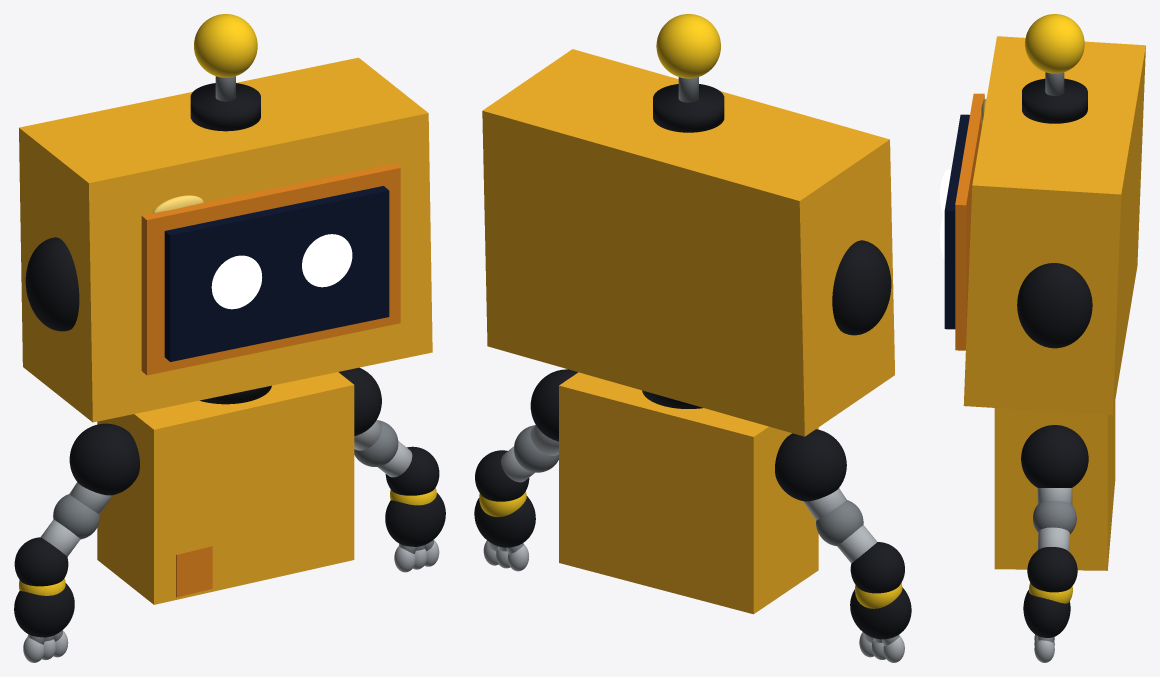
The model's file is test robot.glb.
3 views of the same model, side by side, from view 1: azimuth 30°, elevation 25°; view 2: azimuth 150°, elevation 25°; view 3: azimuth 270°, elevation 25° (orthographic). The views are drawn at different scales.
Parts seen in each view (by area): view 1: Robot Head, Robot Body, Face Screen, Screen Orange Frame, Left Shoulder, Left Ear, Antenna Ball, Antenna Base, LEFT Claw Hub, RIGHT Claw Hub, Left Glowing Eye, Right Glowing Eye (+10 smaller); view 2: Robot Head, Robot Body, Left Ear, Left Shoulder, Antenna Ball, Antenna Base, Left Wrist, RIGHT Claw Hub, LEFT Claw Hub, Right Shoulder, Right Wrist, Left Elbow (+5 smaller); view 3: Robot Head, Robot Body, Right Ear, Screen Orange Frame, Right Shoulder, Antenna Ball, Face Screen, Antenna Base, Right Wrist, RIGHT Claw Hub, Right Elbow, Right Forearm (+5 smaller).
Boxes of the visible parts, <box> form: Robot Head: <box>19,57,432,422</box>; Robot Body: <box>97,372,354,604</box>; Face Screen: <box>164,186,389,361</box>; Screen Orange Frame: <box>141,163,400,375</box>; Left Shoulder: <box>69,423,139,495</box>; Left Ear: <box>25,237,79,331</box>; Antenna Ball: <box>194,14,257,77</box>; Antenna Base: <box>190,83,260,131</box>; LEFT Claw Hub: <box>14,583,74,637</box>; RIGHT Claw Hub: <box>385,493,445,546</box>; Left Glowing Eye: <box>211,255,262,309</box>; Right Glowing Eye: <box>302,234,352,287</box>; Robot Head: <box>482,49,894,436</box>; Robot Body: <box>559,372,818,614</box>; Left Ear: <box>832,240,891,335</box>; Left Shoulder: <box>775,429,846,501</box>; Antenna Ball: <box>656,14,720,78</box>; Antenna Base: <box>653,84,724,132</box>; Left Wrist: <box>850,542,904,593</box>; RIGHT Claw Hub: <box>474,496,535,547</box>; LEFT Claw Hub: <box>850,587,911,639</box>; Right Shoulder: <box>530,369,577,441</box>; Right Wrist: <box>475,450,529,501</box>; Left Elbow: <box>816,500,863,546</box>; Robot Head: <box>963,36,1145,415</box>; Robot Body: <box>994,401,1115,570</box>; Right Ear: <box>1017,263,1092,348</box>; Screen Orange Frame: <box>955,93,984,350</box>; Right Shoulder: <box>1021,425,1088,487</box>; Antenna Ball: <box>1025,14,1084,73</box>; Face Screen: <box>944,114,969,329</box>; Antenna Base: <box>1022,78,1087,123</box>; Right Wrist: <box>1027,547,1077,592</box>; RIGHT Claw Hub: <box>1023,590,1070,637</box>; Right Elbow: <box>1033,500,1076,533</box>; Right Forearm: <box>1037,527,1069,551</box>.
Size of the model in its own units: 5.86 by 7.79 by 2.62.
